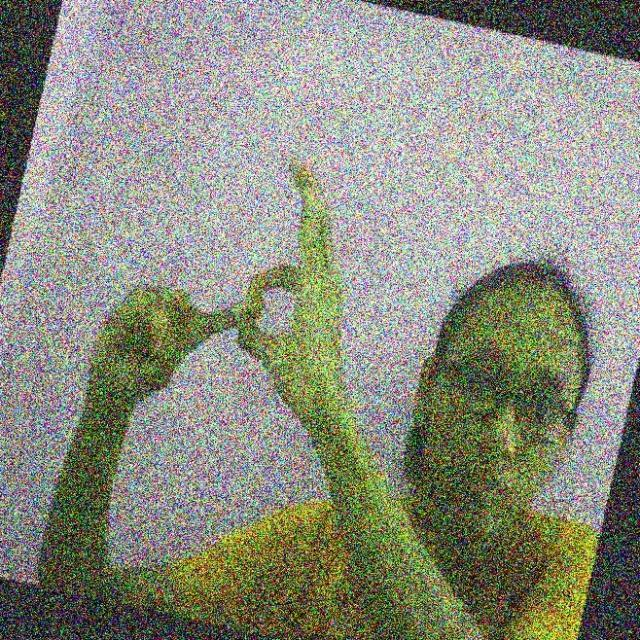Q: (100, 130, 343, 411)
